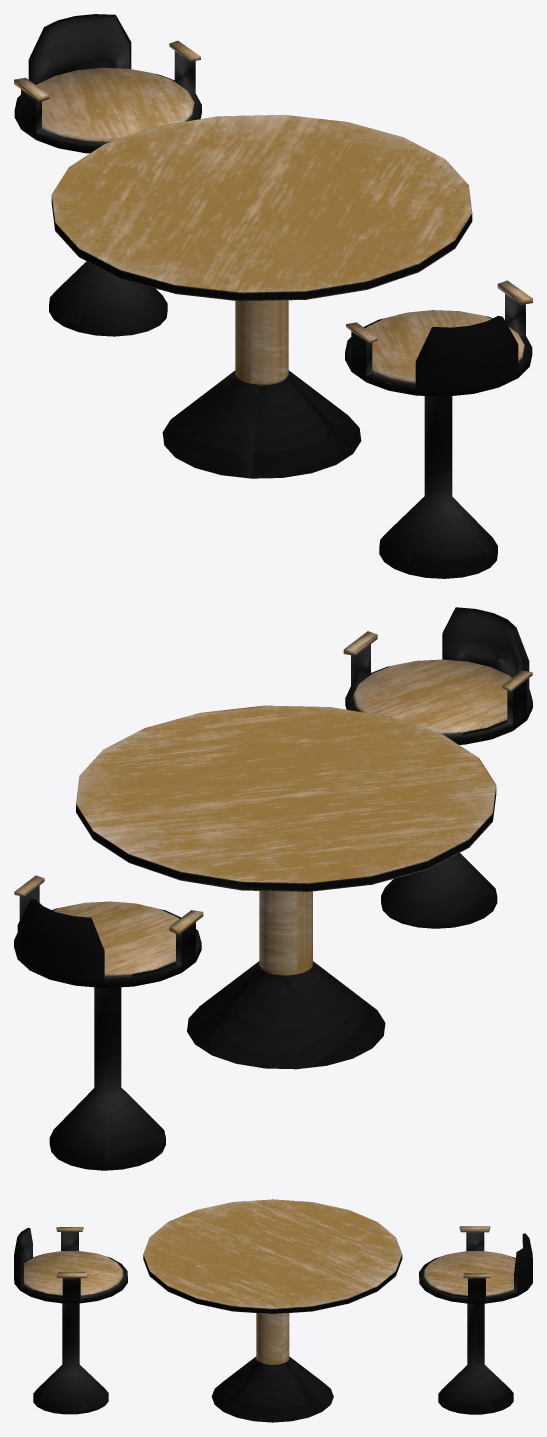
File: Caffee_Sitting_Double.fbx
The picture shows the model from 3 angles, top to bottom: view 1: azimuth 30°, elevation 25°; view 2: azimuth 150°, elevation 25°; view 3: azimuth 270°, elevation 25°; orthographic projection. The views are drawn at different scales.
Visible parts, largest first — view 1: Caffee_Sitting.004; view 2: Caffee_Sitting.004; view 3: Caffee_Sitting.004.
Part boxes in pixels (x1=…): Caffee_Sitting.004: x1=14, y1=14, x2=532, y2=578; Caffee_Sitting.004: x1=14, y1=607, x2=532, y2=1170; Caffee_Sitting.004: x1=14, y1=1199, x2=532, y2=1422.
Bounding box in the file's own units: 46.39 × 31.62 × 92.98.
1 material, 1 textured.
